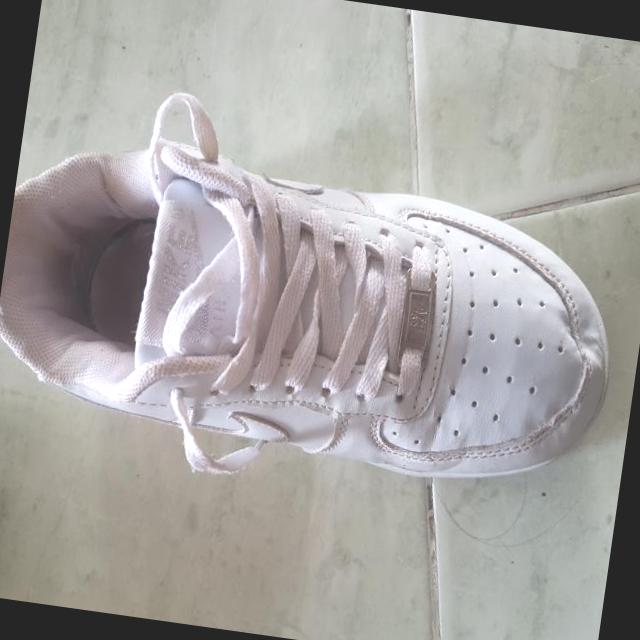nike_fake_airforce: (0, 124, 636, 489)
